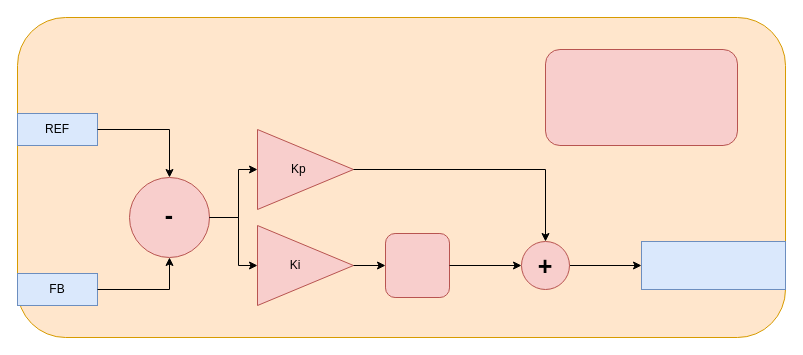
Some shapes in this 803 by 355 pixel diagram are drawn without their labels. The shapes that lost their labels are listed below. From the top down, each one's centre as x and y in pixels, then its label:
point 641,97: Control unit
point 417,265: s -1
point 713,265: OUT
